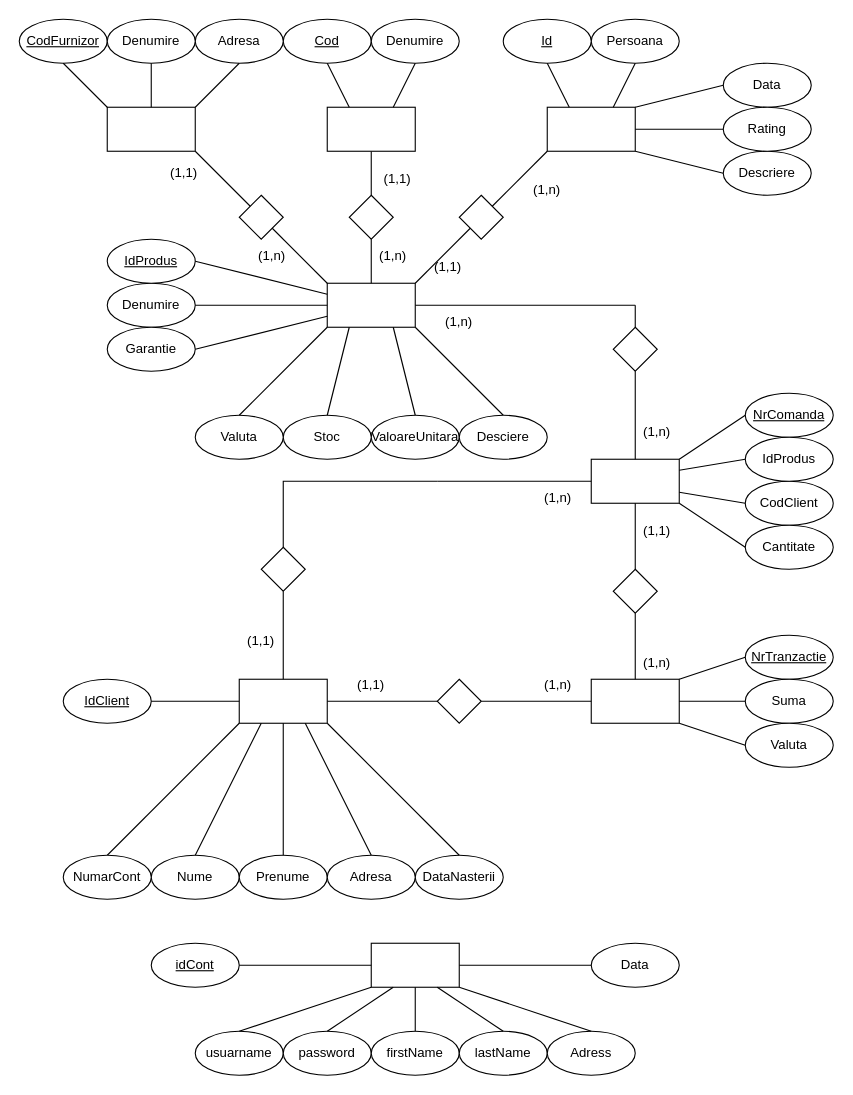
This 853x1095 diagram has some shape labels left out. Each missing label, with the box of its shape:
Categorie: (326, 106, 415, 151)
Clienti: (238, 678, 327, 723)
Comanda: (590, 458, 679, 503)
Cont: (370, 942, 459, 987)
Furnizor: (106, 106, 195, 151)
Produs: (326, 282, 415, 327)
Recenzie: (546, 106, 635, 151)
Tranzactie: (590, 678, 679, 723)
